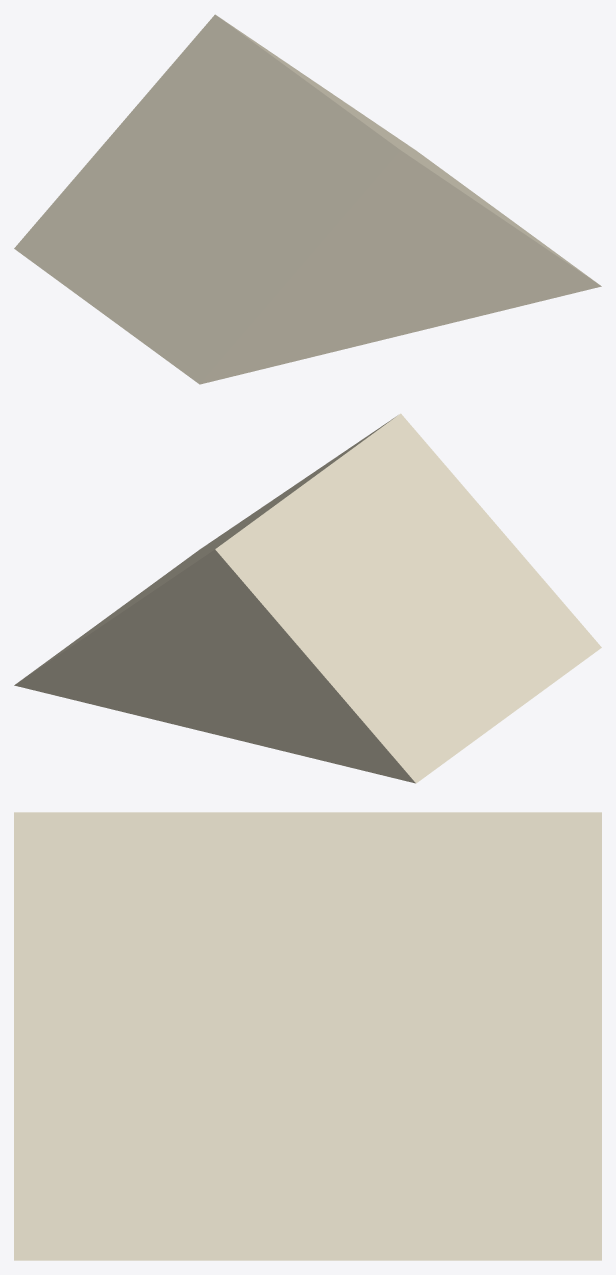
File: rock-outcrop.glb
3 renders of one model, top to bottom at view 1: azimuth 30°, elevation 25°; view 2: azimuth 150°, elevation 25°; view 3: azimuth 270°, elevation 25°, orthographic. The views are drawn at different scales.
Size of the model in its own units: 5 by 2.2 by 4.
